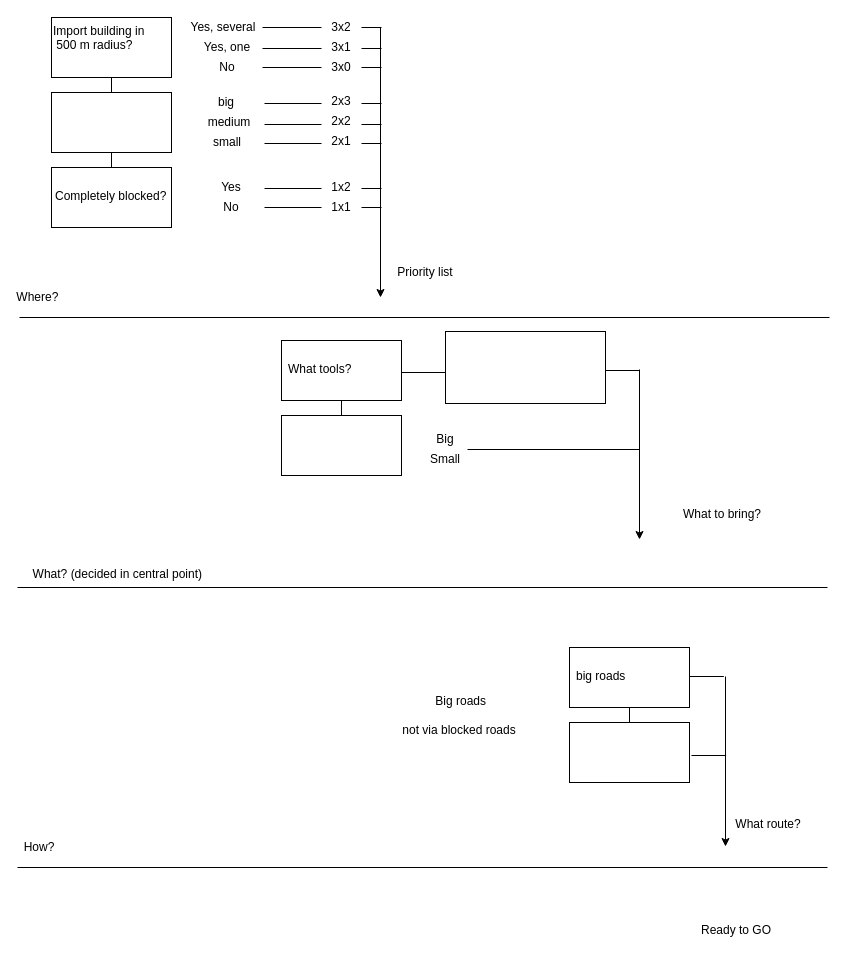
The diagram is 853 pixels wide and 961 high, and some of its shapes have lost their labels. Here are the shapes that lost their labels. From the top down, the centre of each, then its label:
At (111,122): "Size of the road?".
At (525,367): "Tools x Ax x Hammer x ...".
At (341,445): "What car?".
At (629,752): "no blocked roads".
